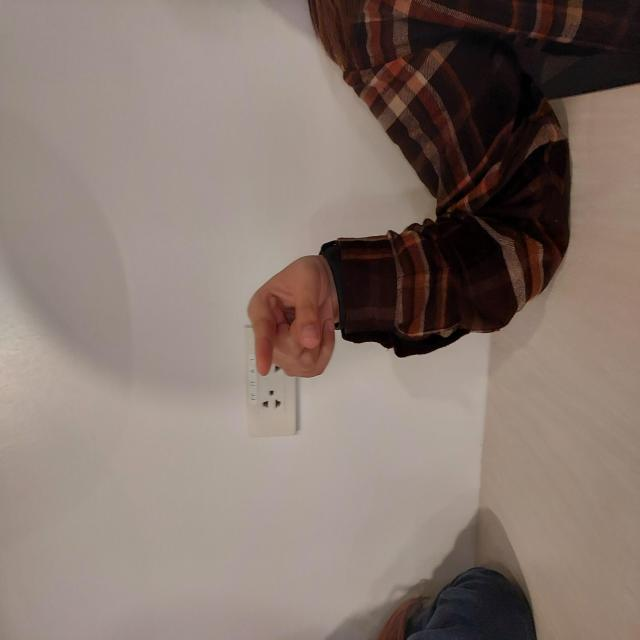Z: (260, 245, 390, 340)
